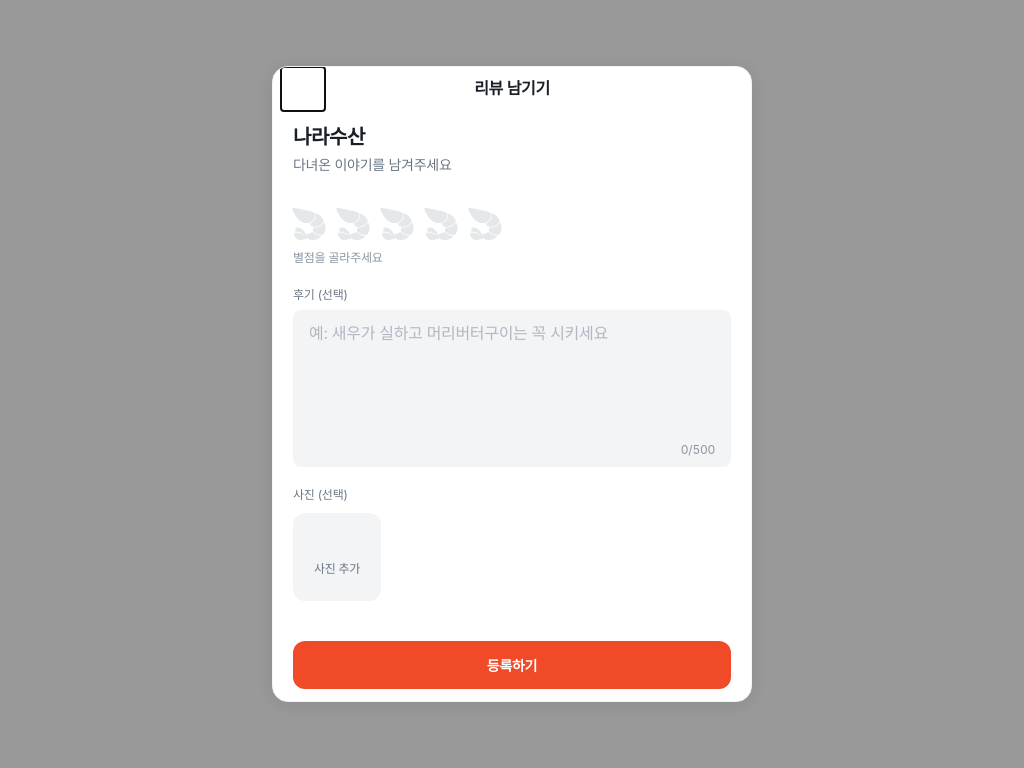
Test: ReviewForm — 별점 필수·후기 선택·사진 1장, 등록/수정, 닫는 길 하나 › 등록 실패는 폼 안 오류 한 줄, 입력은 그대로
Click the radio button named "5점" at (485, 224), box x1=463 y1=202 x2=507 y2=246
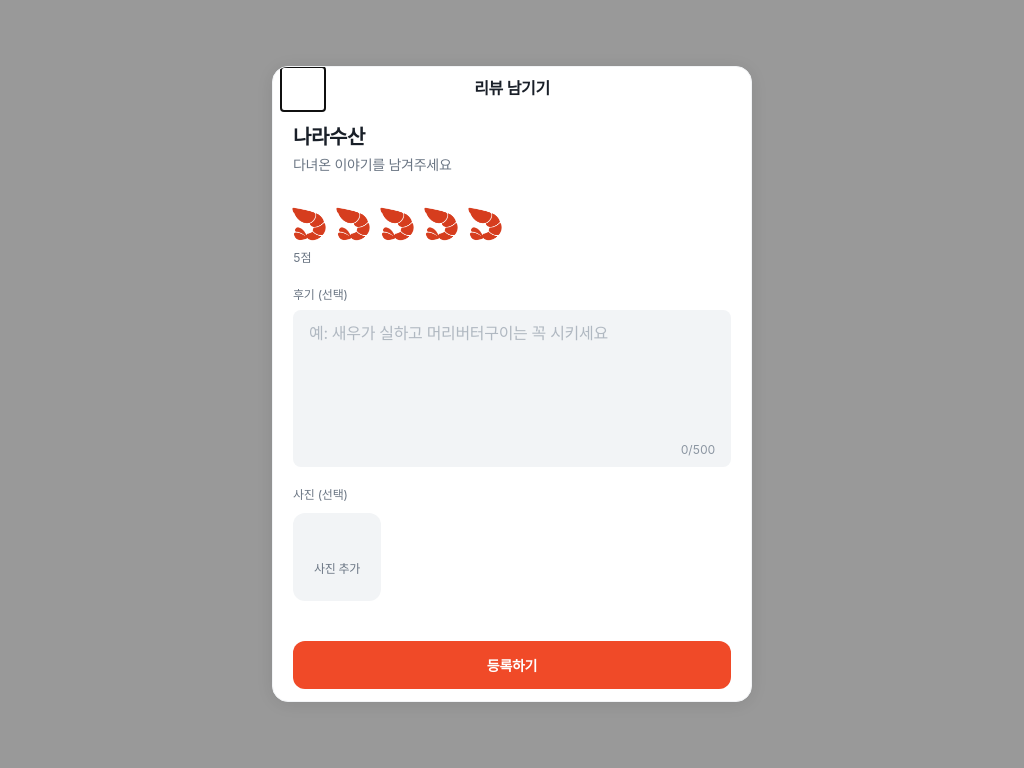
Click the button "등록하기" at (512, 665), box x1=293 y1=641 x2=731 y2=689
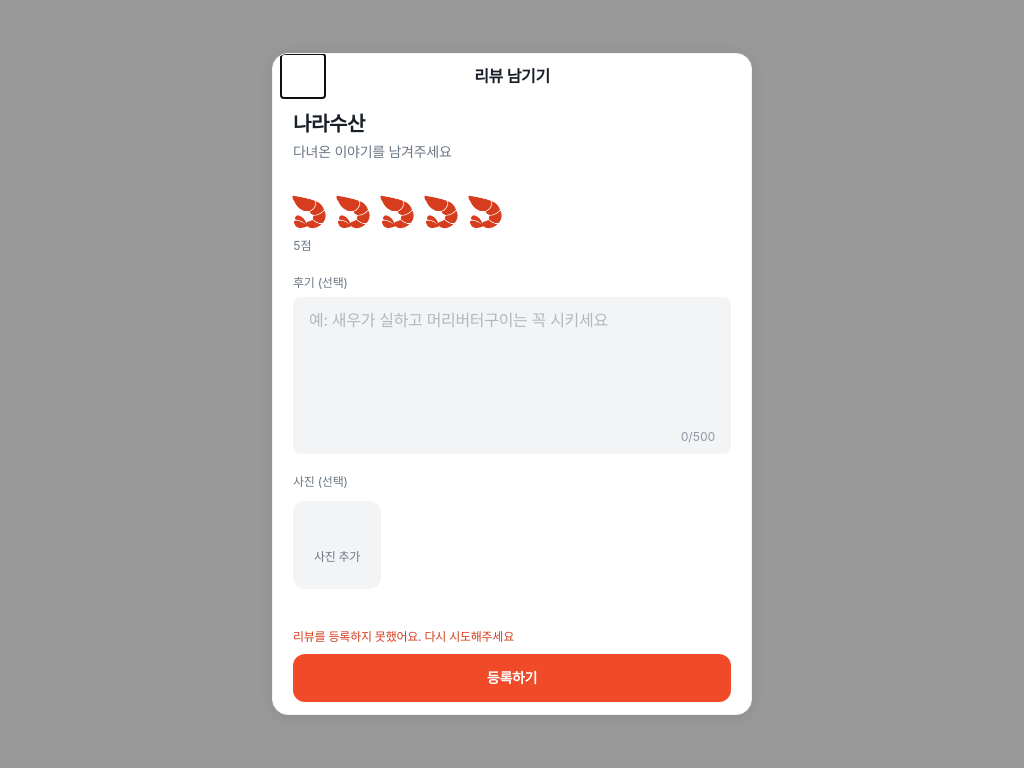
Check: the message reads "리뷰를 등록하지 못했어요. 다시 시도해주세요", box x1=293 y1=629 x2=514 y2=644
